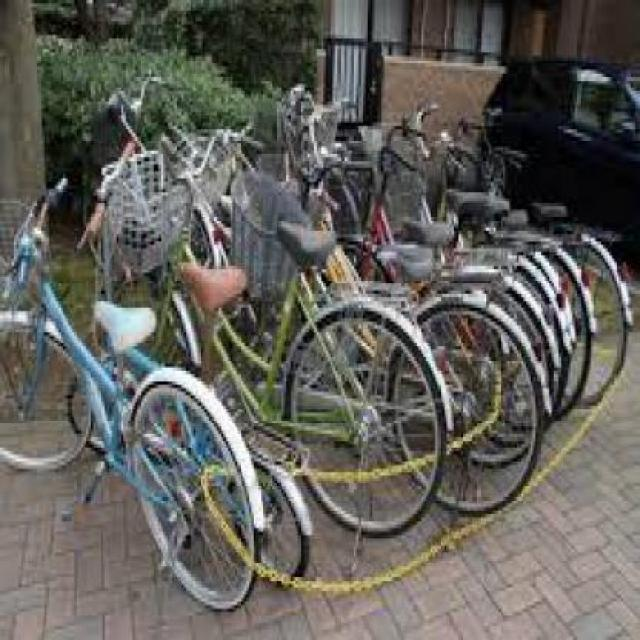bicycle: (94, 123, 453, 548), (1, 185, 273, 613)
